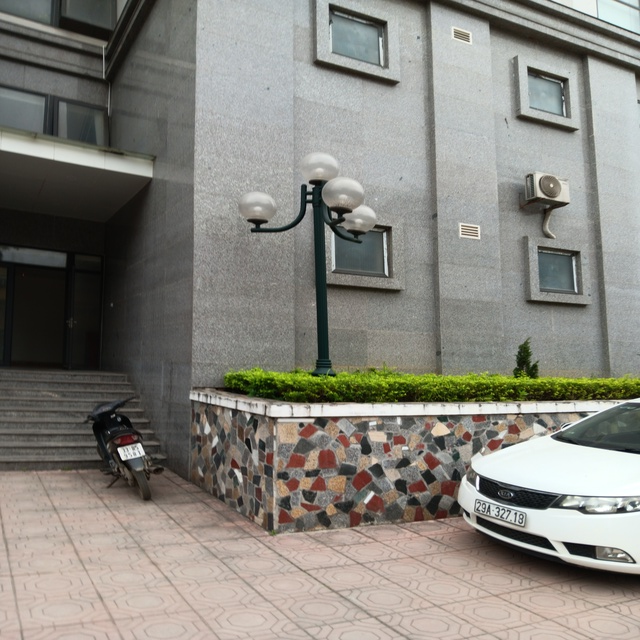cotden: (240, 148, 406, 374)
